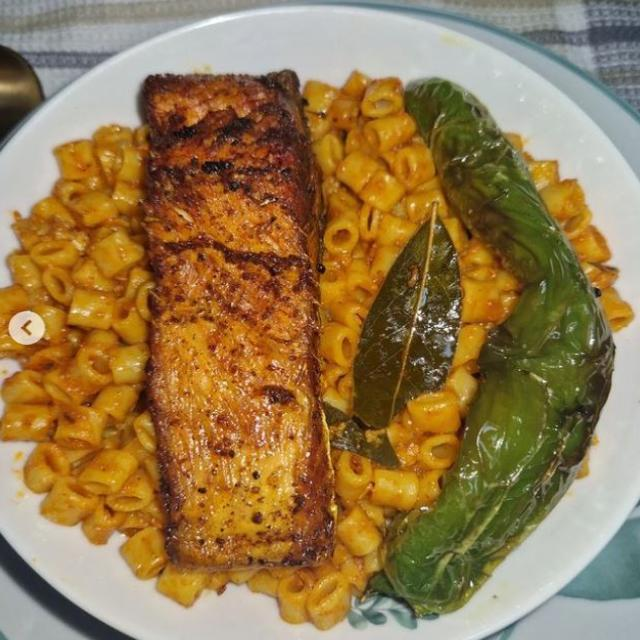Pasta: (5, 42, 628, 582)
